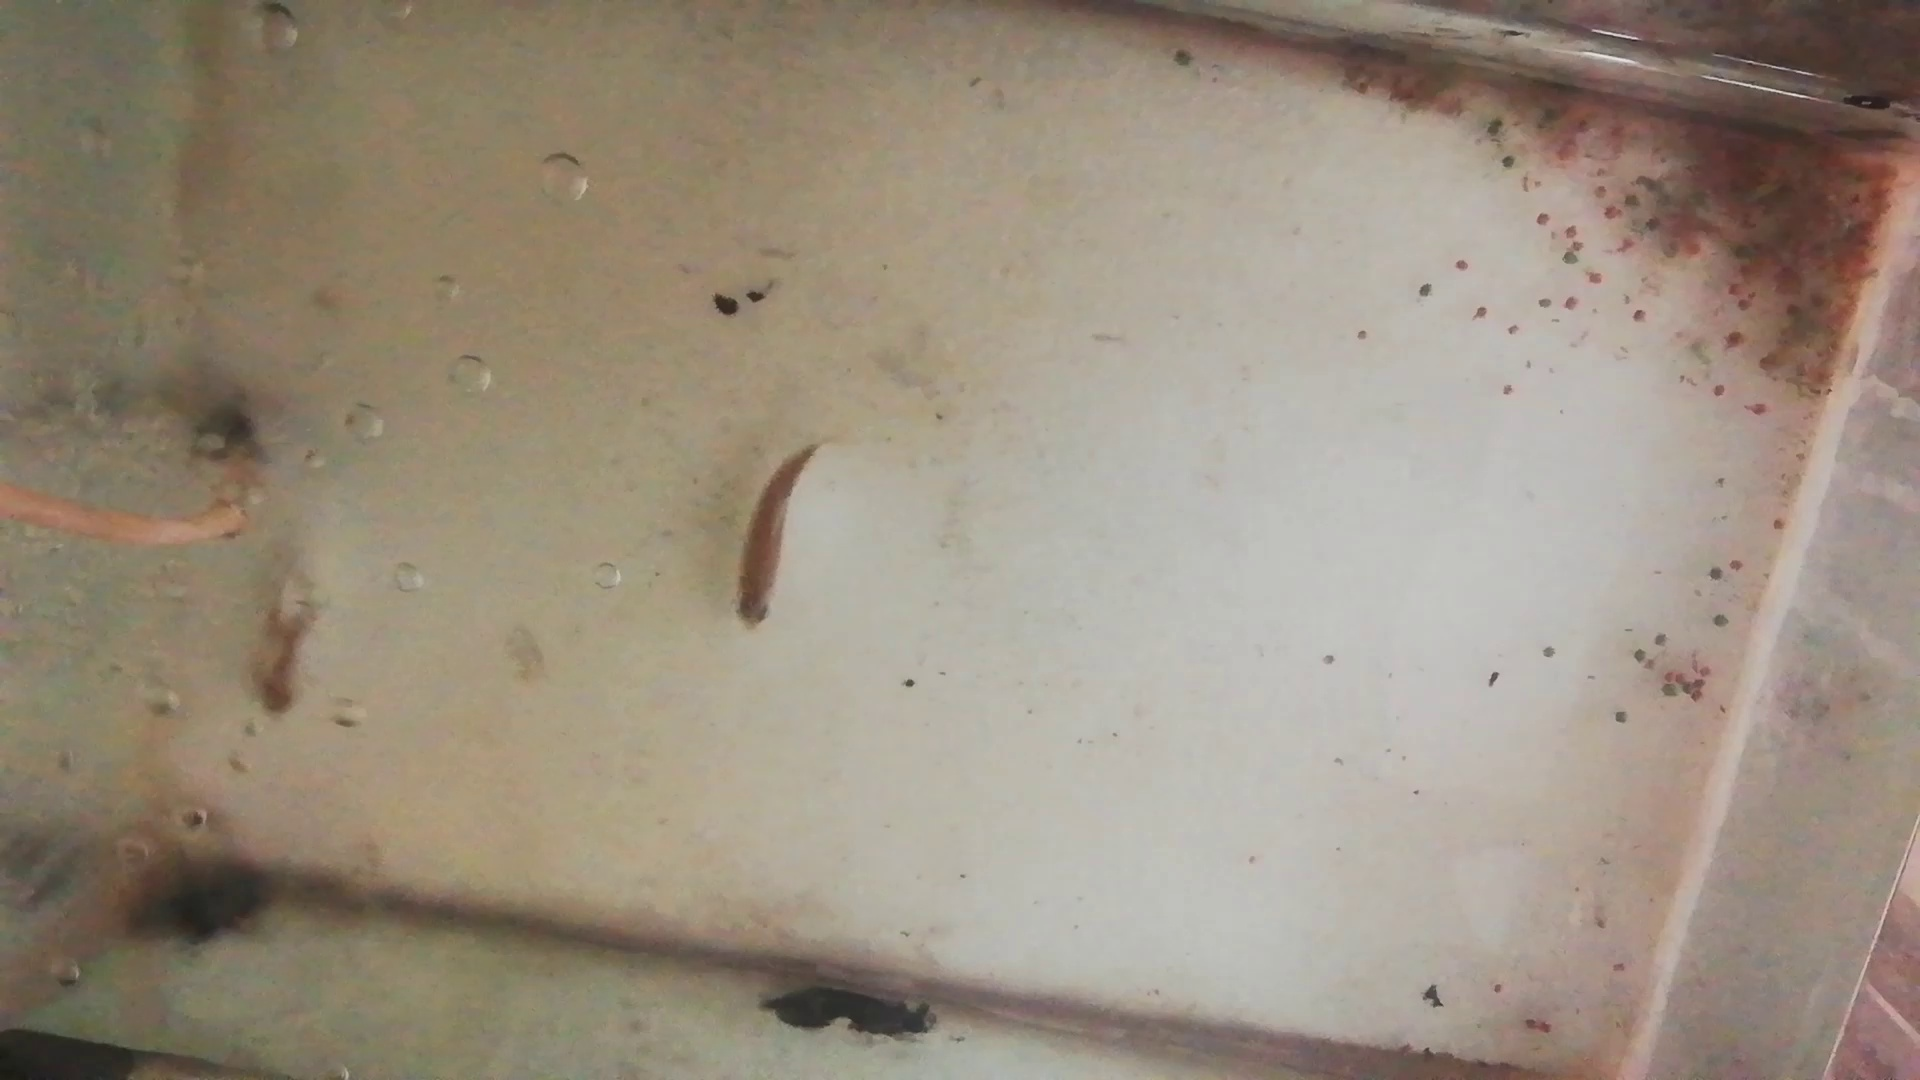fish: (732, 442, 814, 626), (255, 560, 311, 724)
